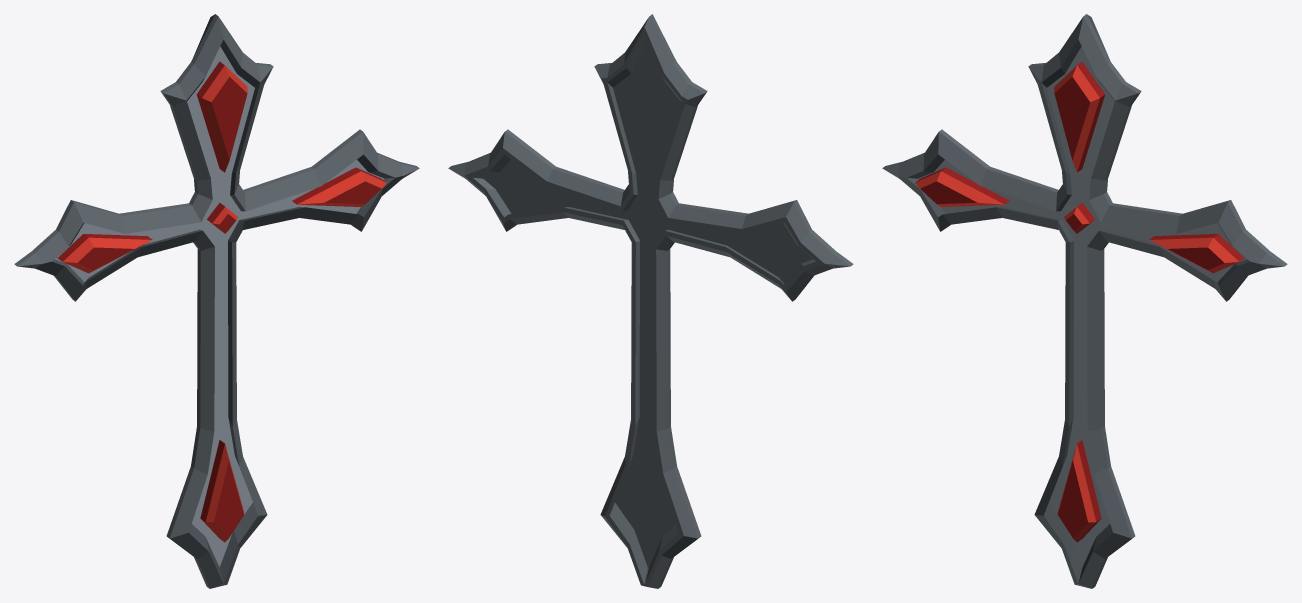
The model's file is WF_LP_HT_Props_Cross.002.fbx.
The picture shows the model from 3 angles, left to right: view 1: azimuth 30°, elevation 25°; view 2: azimuth 150°, elevation 25°; view 3: azimuth 330°, elevation 25°; orthographic projection.
Parts seen in each view (by area): view 1: WF_LP_HT_Props_Cross.002; view 2: WF_LP_HT_Props_Cross.002; view 3: WF_LP_HT_Props_Cross.002.
Part boxes in pixels (bbox=[...]): WF_LP_HT_Props_Cross.002: bbox=[14, 14, 419, 588]; WF_LP_HT_Props_Cross.002: bbox=[448, 14, 853, 588]; WF_LP_HT_Props_Cross.002: bbox=[882, 14, 1287, 588].
Bounding box in the file's own units: 0.3654 × 0.4949 × 0.0301.
